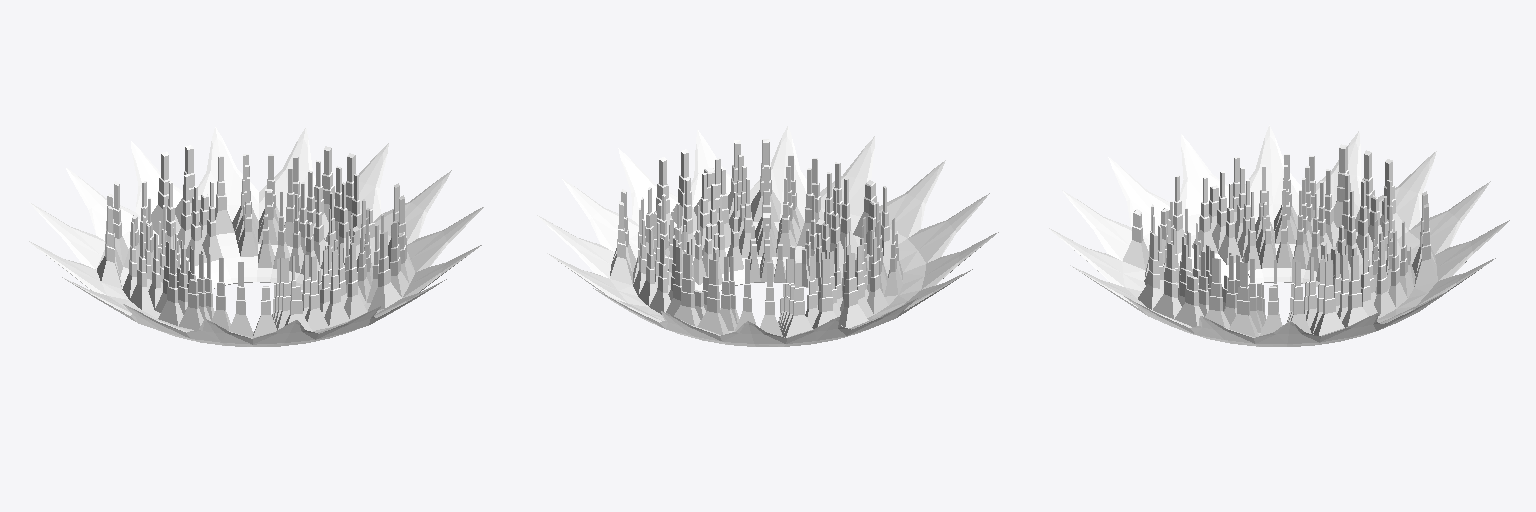
The model's file is Shaper_Bio_Adaptation.obj.
3 renders of one model, left to right at view 1: azimuth 30°, elevation 25°; view 2: azimuth 150°, elevation 25°; view 3: azimuth 270°, elevation 25°, orthographic.
Parts seen in each view (by area): view 1: cylinder1_sep5_cylind; view 2: cylinder1_sep5_cylind; view 3: cylinder1_sep5_cylind.
Part boxes in pixels (x1,y1,x2,y2): cylinder1_sep5_cylind: (29, 127, 483, 346); cylinder1_sep5_cylind: (537, 126, 998, 346); cylinder1_sep5_cylind: (1049, 125, 1509, 346).
Size of the model in its own units: 40 by 10.33 by 40.